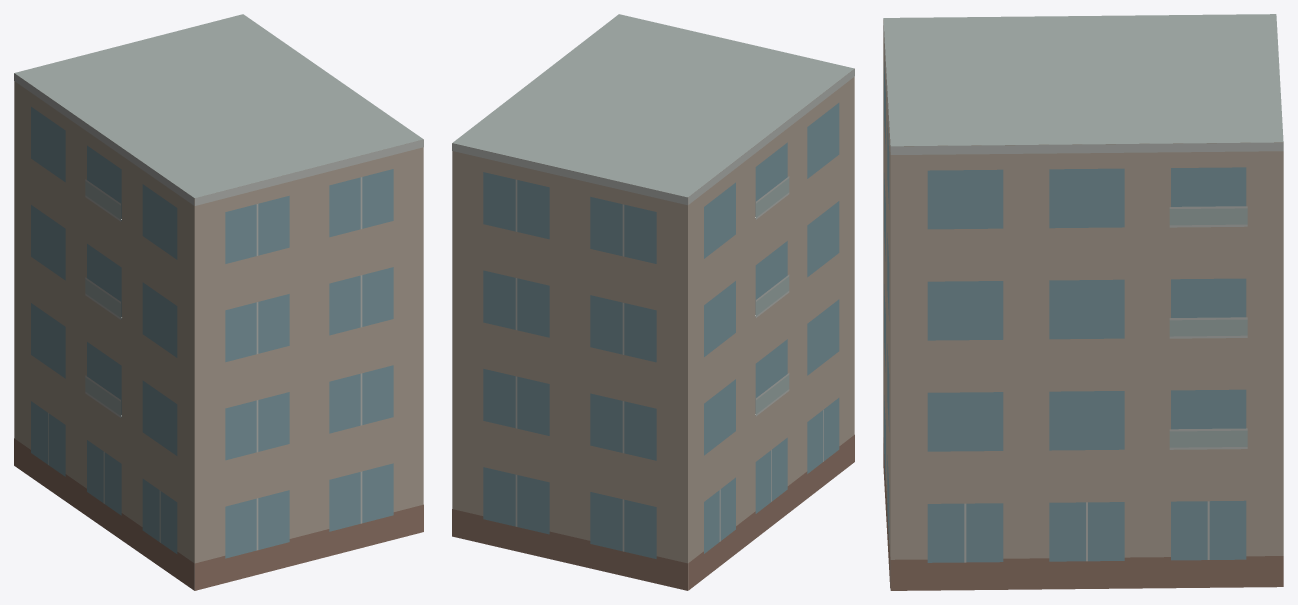
The model's file is residential-4a5495f7-965f-4880-b9f8-7e84a49f20c5.glb.
3 views of the same model, side by side, from view 1: azimuth 30°, elevation 25°; view 2: azimuth 150°, elevation 25°; view 3: azimuth 270°, elevation 25° (orthographic). The views are drawn at different scales.
Visible parts, largest first — view 1: residential-4a5495f7-965f-4880-b9f8-7e84a49f20c5.tmp; view 2: residential-4a5495f7-965f-4880-b9f8-7e84a49f20c5.tmp; view 3: residential-4a5495f7-965f-4880-b9f8-7e84a49f20c5.tmp.
Boxes of the visible parts, box(x1,y1,x2,y2) form: residential-4a5495f7-965f-4880-b9f8-7e84a49f20c5.tmp: box(14, 14, 423, 590); residential-4a5495f7-965f-4880-b9f8-7e84a49f20c5.tmp: box(452, 14, 854, 590); residential-4a5495f7-965f-4880-b9f8-7e84a49f20c5.tmp: box(883, 14, 1283, 590).
Size of the model in its own units: 7.79 by 12.2 by 9.96.
